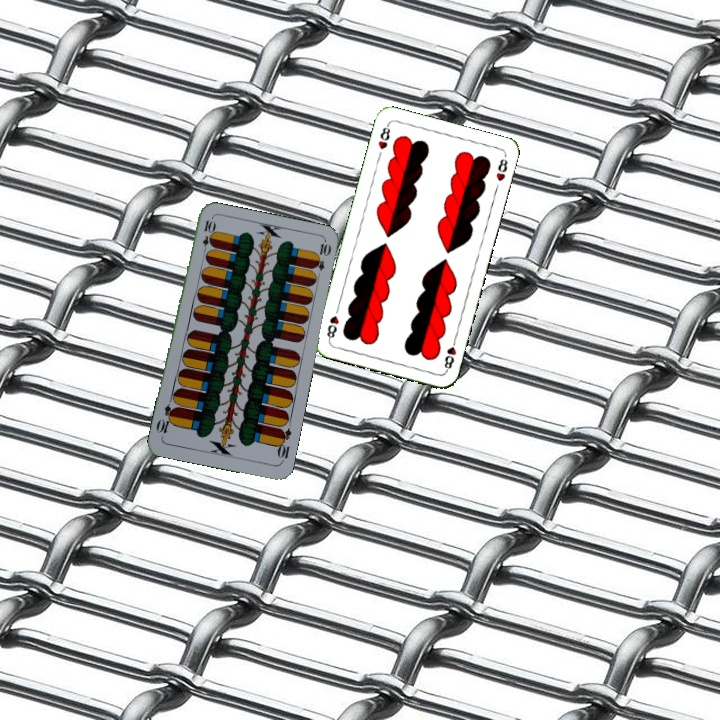E10: (273, 425, 294, 465), (198, 216, 216, 257)
H8: (440, 334, 459, 374), (374, 120, 393, 152)
